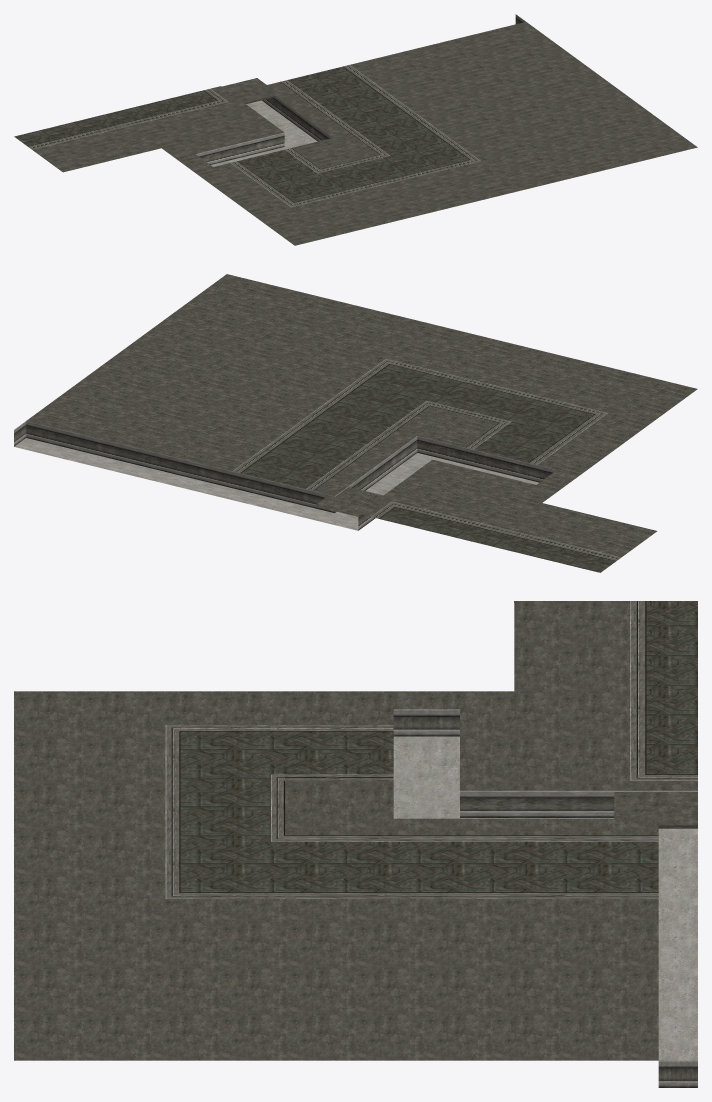
Rendered from DWARF_PALACE_ARKENSTONE_ROOM_FLOORA.fbx.
3 renders of one model, top to bottom at view 1: azimuth 30°, elevation 25°; view 2: azimuth 150°, elevation 25°; view 3: azimuth 270°, elevation 25°, orthographic. The views are drawn at different scales.
Parts seen in each view (by area): view 1: DWARF_PALACE_ARKENSTONE_ROOM_FLOORA; view 2: DWARF_PALACE_ARKENSTONE_ROOM_FLOORA; view 3: DWARF_PALACE_ARKENSTONE_ROOM_FLOORA.
Part boxes in pixels (x1,y1,x2,y2): DWARF_PALACE_ARKENSTONE_ROOM_FLOORA: (14,14,697,245); DWARF_PALACE_ARKENSTONE_ROOM_FLOORA: (14,274,697,572); DWARF_PALACE_ARKENSTONE_ROOM_FLOORA: (14,601,697,1087).
Size of the model in its own units: 361006 by 9997 by 227012.
6 materials, 6 textured.
